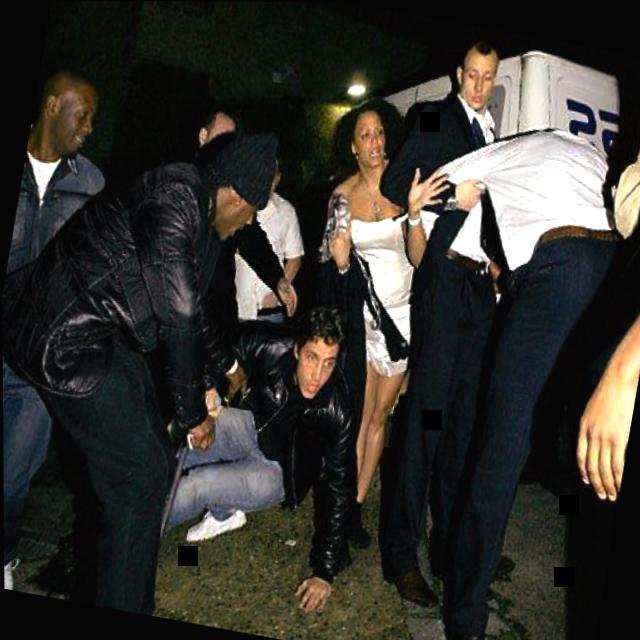Fall-Detected: (137, 269, 393, 628)
